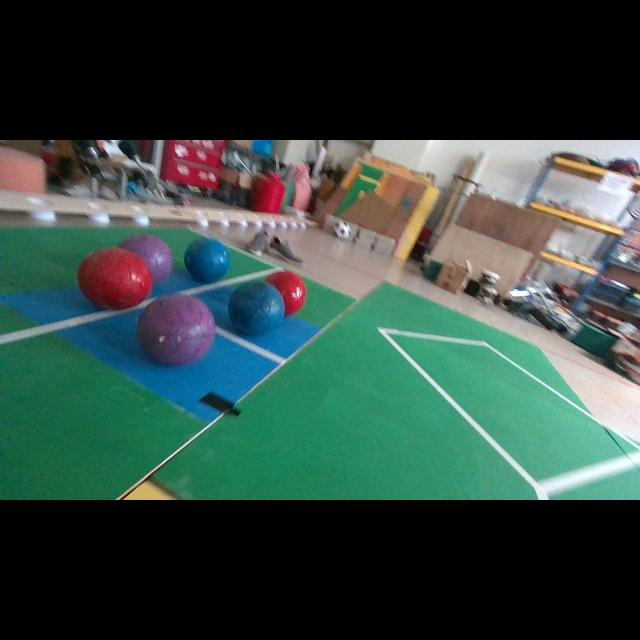B: (229, 281, 285, 335), (184, 239, 230, 282)
P: (136, 294, 215, 366), (119, 234, 172, 282)
R: (78, 248, 152, 310), (265, 271, 308, 314)
